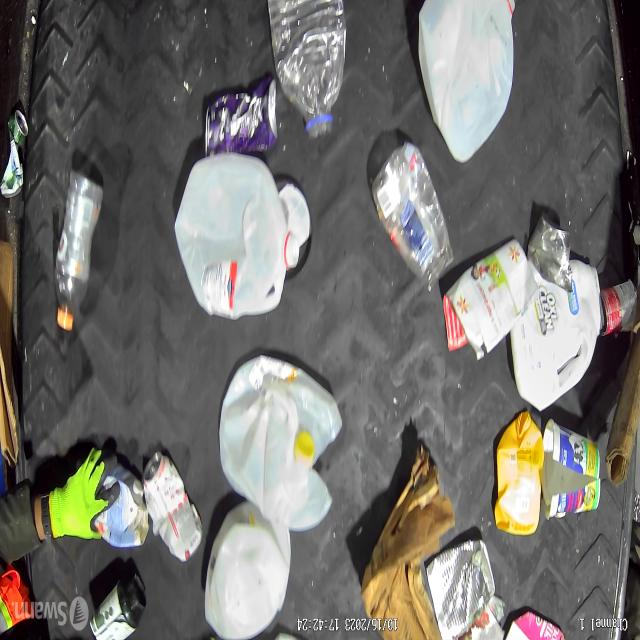milk_jug: (219, 356, 341, 539), (176, 154, 298, 317), (418, 0, 512, 164), (511, 262, 600, 415), (205, 505, 292, 640)
plastic_bottle: (265, 0, 345, 139)
